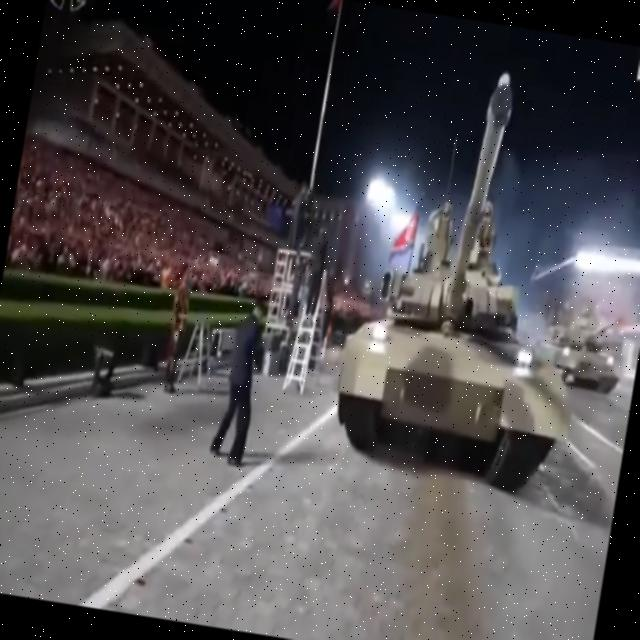north tank: (308, 35, 629, 544), (545, 280, 640, 417)
